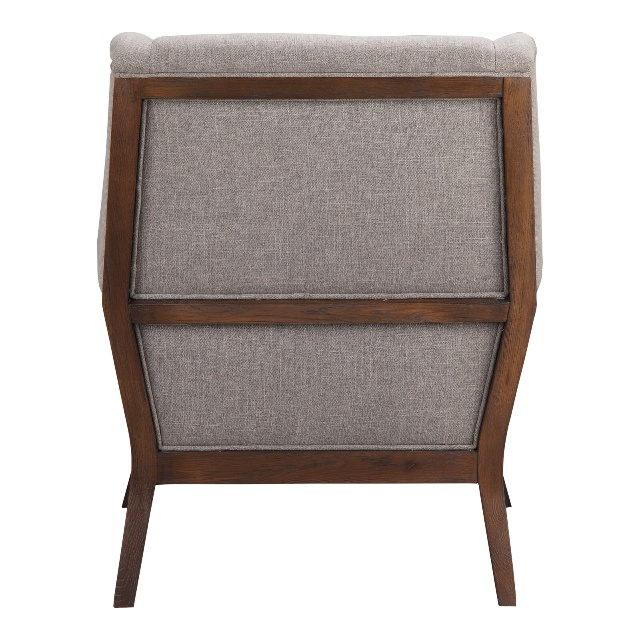obstacle: (100, 34, 540, 606)
